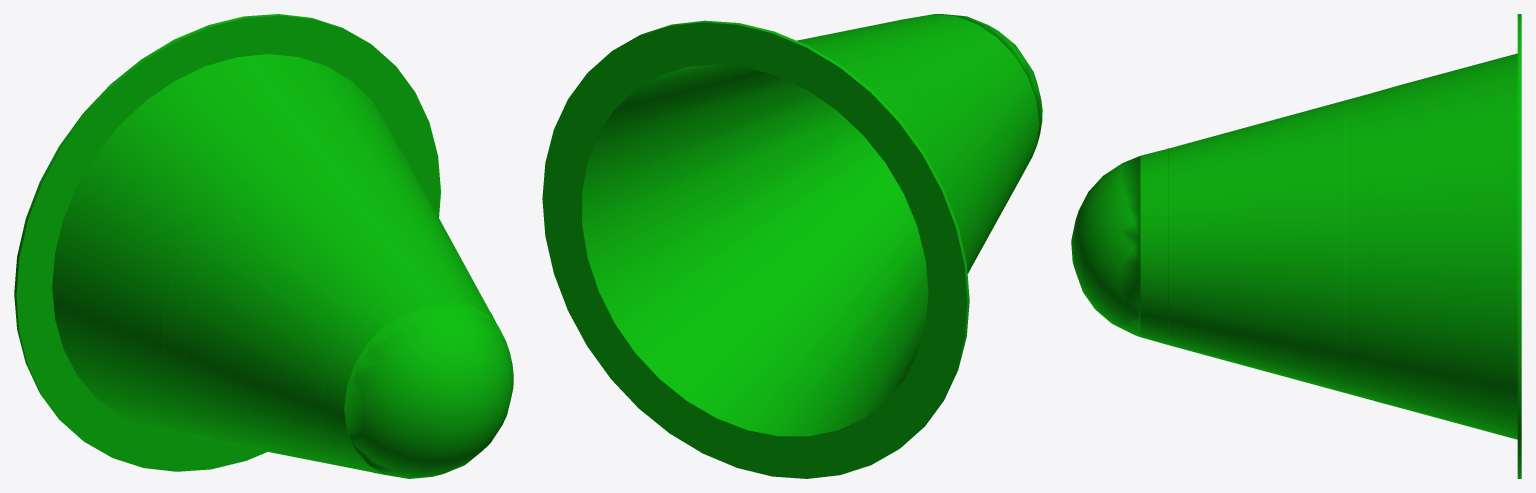
The model's file is green_cone.obj.
3 views of the same model, side by side, from view 1: azimuth 30°, elevation 25°; view 2: azimuth 150°, elevation 25°; view 3: azimuth 270°, elevation 25° (orthographic). The views are drawn at different scales.
Parts seen in each view (by area): view 1: Body2.002; view 2: Body2.002; view 3: Body2.002.
Part boxes in pixels (bbox=[...]): Body2.002: bbox=[14, 14, 513, 478]; Body2.002: bbox=[542, 14, 1042, 478]; Body2.002: bbox=[1071, 14, 1521, 478].
Bounding box in the file's own units: 0.0803 × 0.08 × 0.0778.
